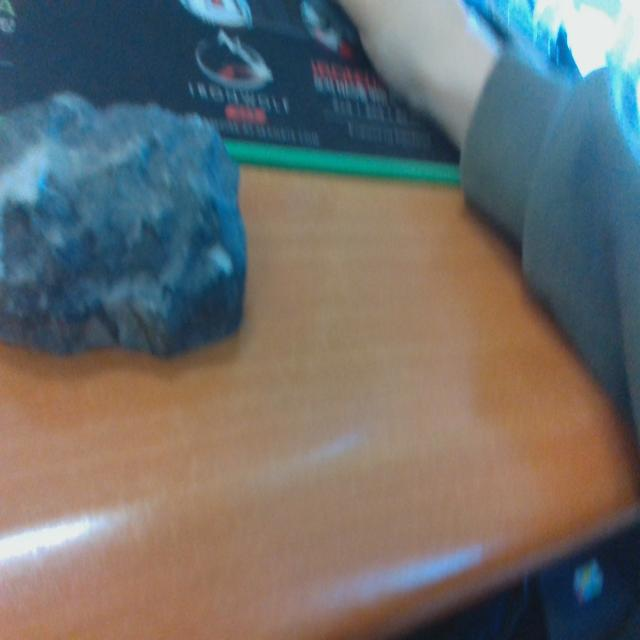stone: (0, 84, 250, 366)
